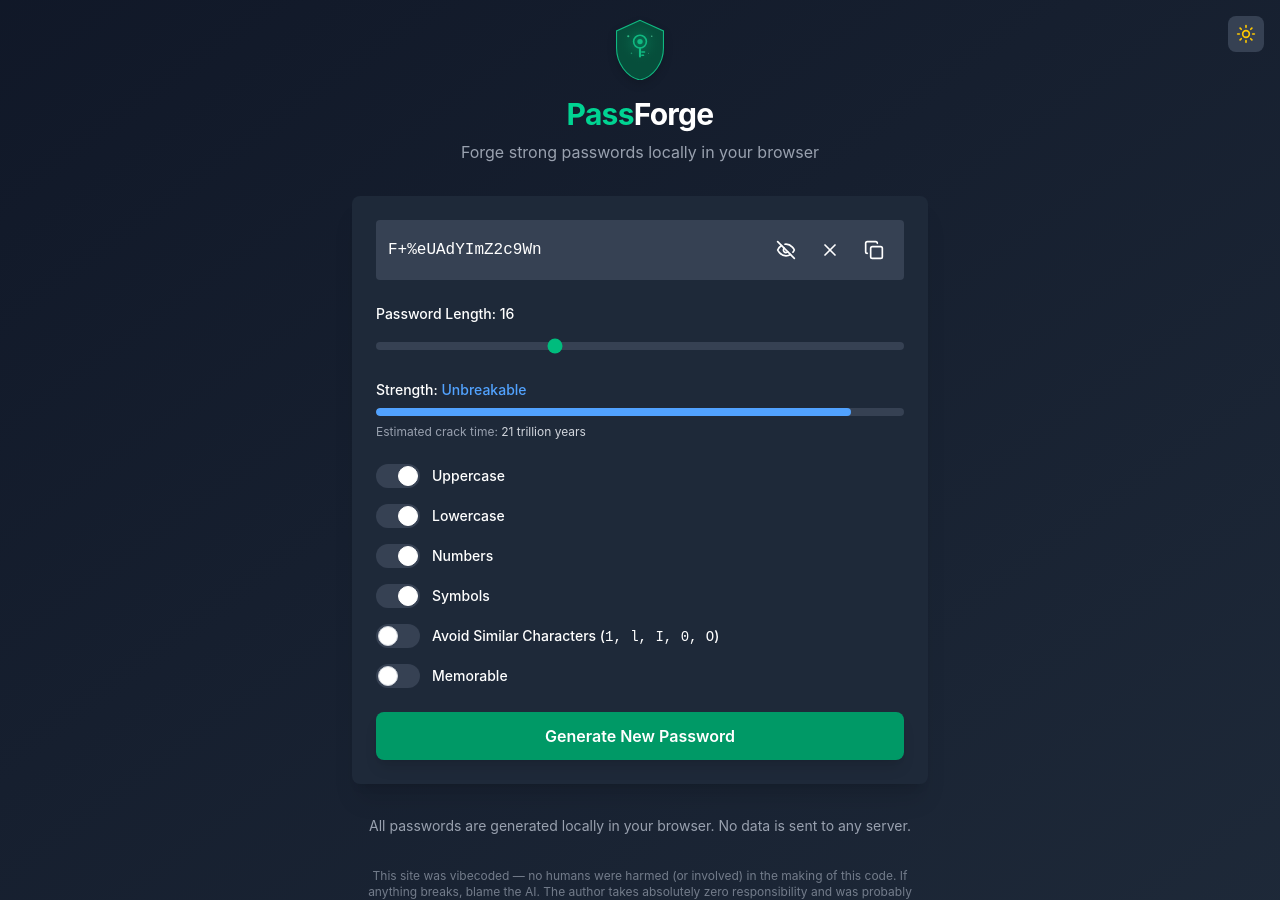
Scenario: App component › shows error when clipboard write fails
This screenshot has width=1280, height=900.
Click the button titled "Copy to clipboard (Ctrl+C)".
click(874, 250)  # box [856,232,892,268]
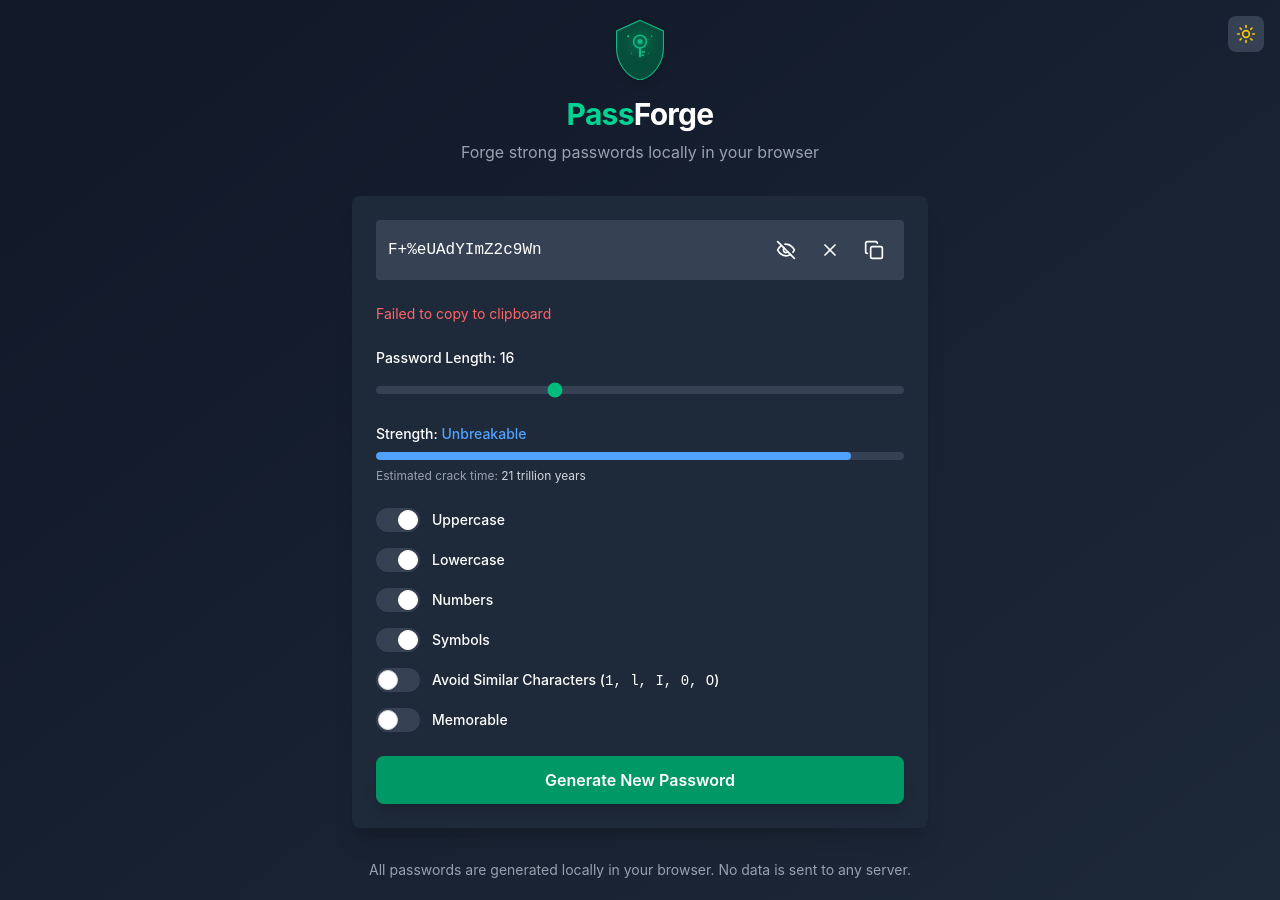
Expected: the message reads "Failed to copy to clipboard", [376,305,551,322]
